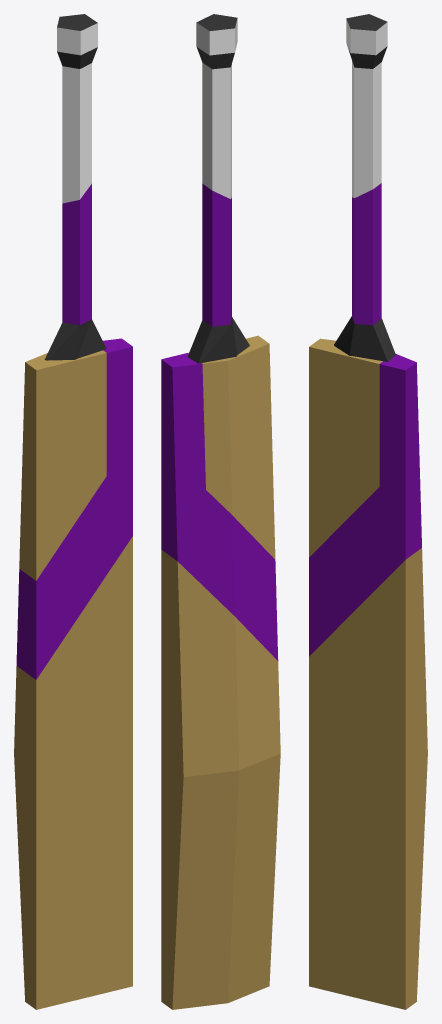
File: CrickietBat_C4.fbx
The picture shows the model from 3 angles, left to right: view 1: azimuth 30°, elevation 25°; view 2: azimuth 210°, elevation 25°; view 3: azimuth 330°, elevation 25°; orthographic projection.
Visible parts, largest first — view 1: CrickietBat_C4; view 2: CrickietBat_C4; view 3: CrickietBat_C4.
Part boxes in pixels (bbox=[...]): CrickietBat_C4: bbox=[14, 14, 132, 1009]; CrickietBat_C4: bbox=[161, 14, 280, 1009]; CrickietBat_C4: bbox=[309, 14, 427, 1009].
Bounding box in the file's own units: 8.12 × 77.79 × 4.47.
